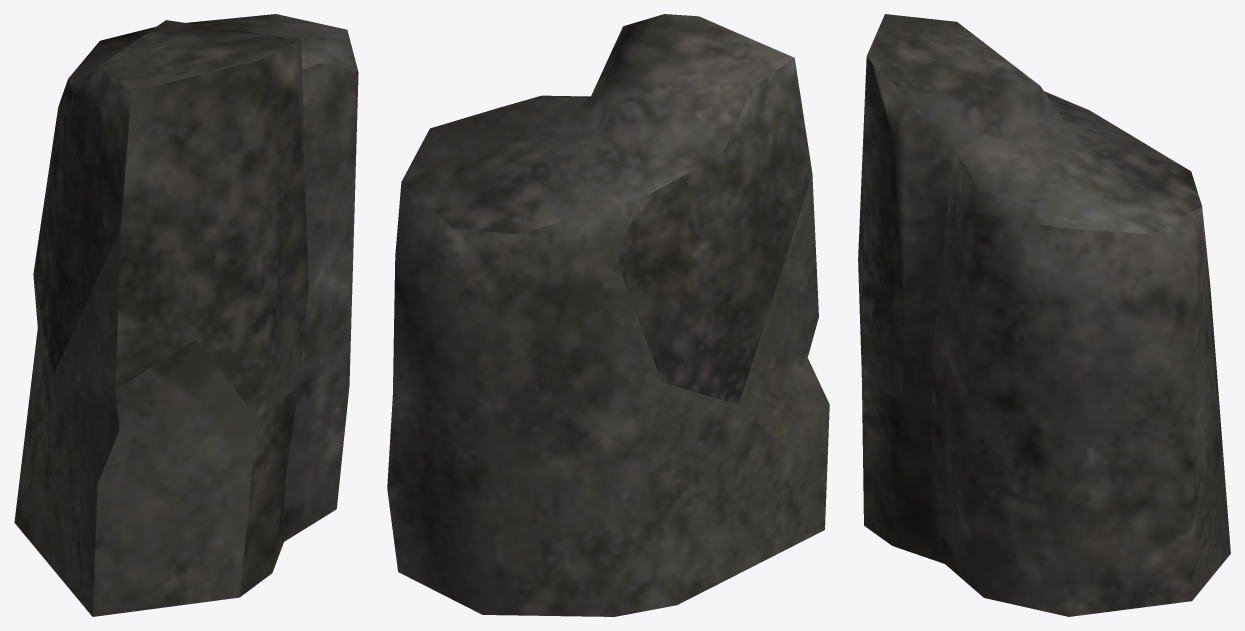
File: Rock4v2.glb
The picture shows the model from 3 angles, left to right: view 1: azimuth 30°, elevation 25°; view 2: azimuth 150°, elevation 25°; view 3: azimuth 270°, elevation 25°; orthographic projection. The views are drawn at different scales.
Visible parts, largest first — view 1: rocks1_6; view 2: rocks1_6; view 3: rocks1_6.
Boxes of the visible parts, left/top/right/bottom form: rocks1_6: left=14, top=14, right=358, bottom=616; rocks1_6: left=387, top=14, right=829, bottom=616; rocks1_6: left=858, top=14, right=1230, bottom=616.
Bounding box in the file's own units: 2.97 × 4.27 × 2.99.
1 material, 1 textured.
